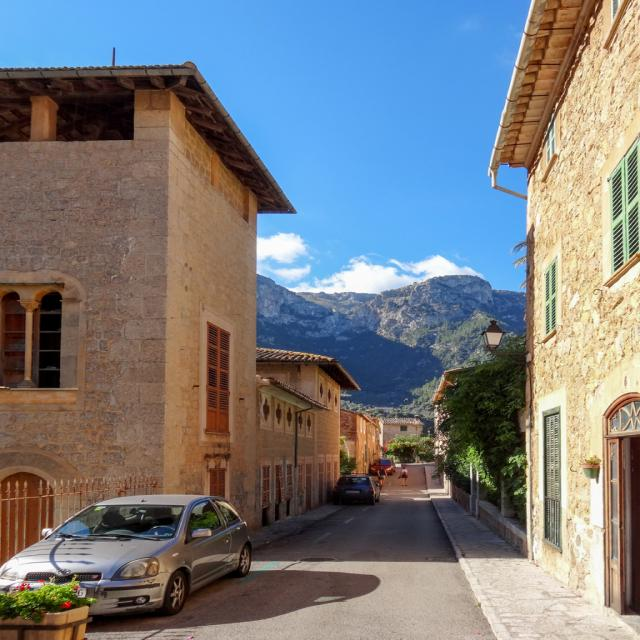car: (328, 471, 382, 505), (366, 459, 391, 473)
